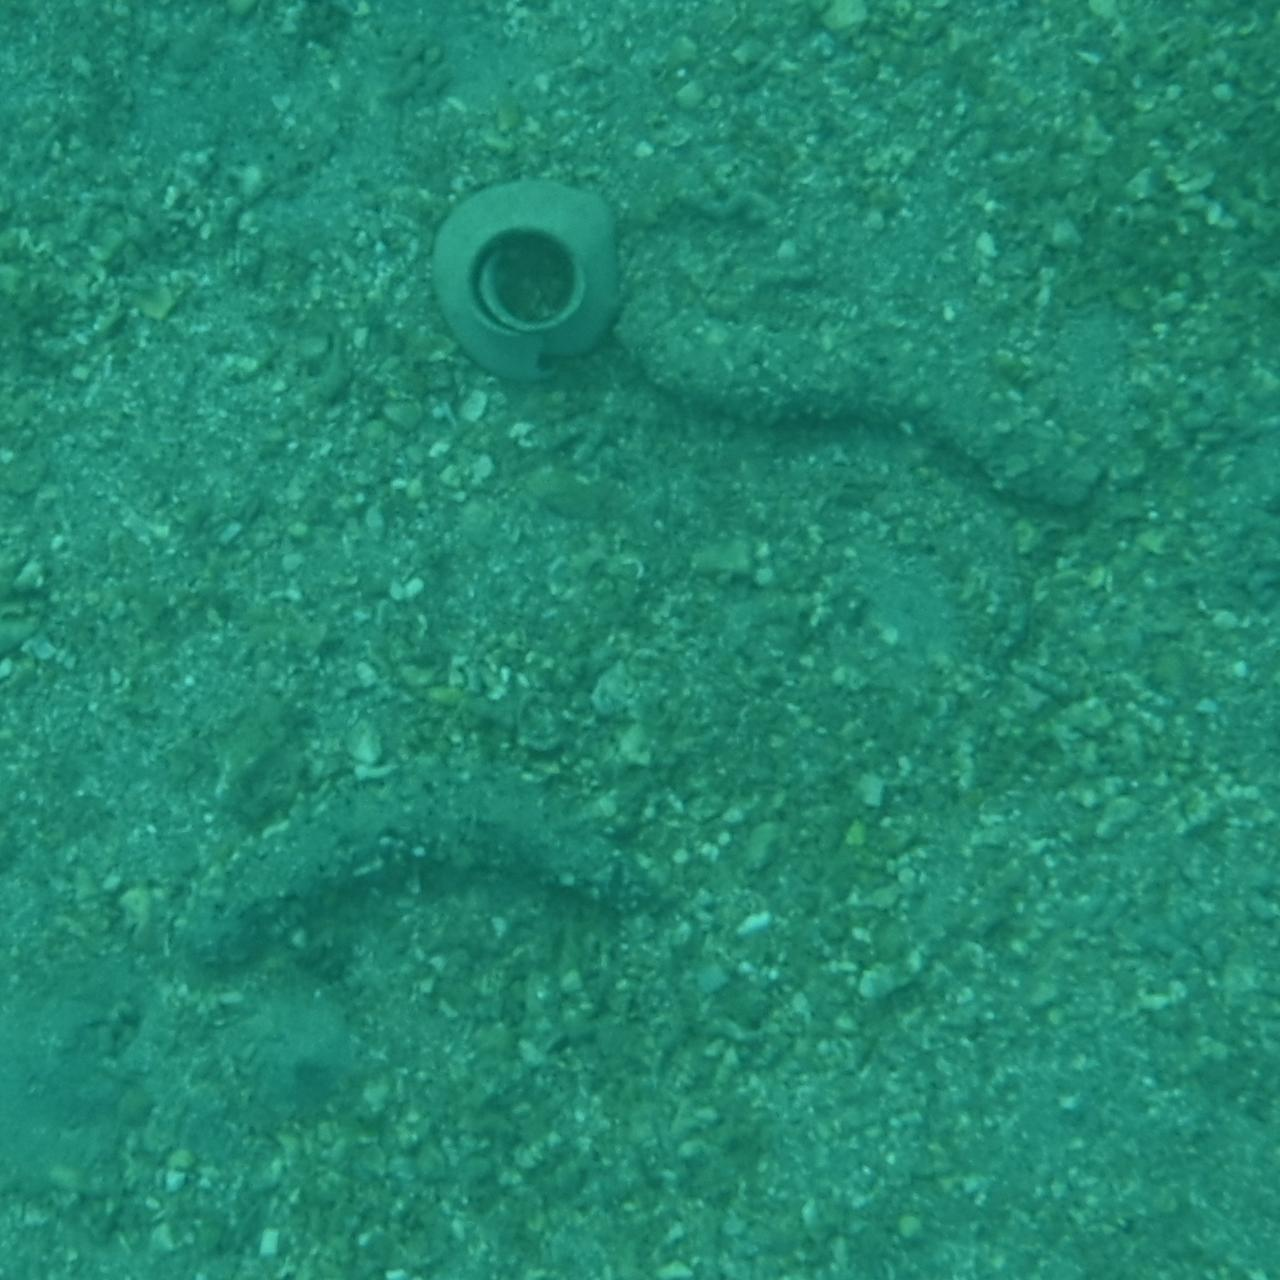Holothuria tubulosa: (128, 750, 670, 980), (626, 299, 1136, 531)
